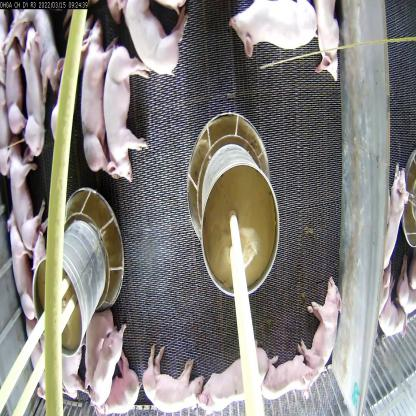Pig: (99, 41, 163, 192), (119, 0, 204, 85), (191, 338, 275, 416), (4, 138, 54, 265), (225, 0, 324, 63), (72, 22, 114, 170), (292, 271, 344, 386), (16, 24, 55, 166), (17, 1, 69, 101), (136, 344, 205, 415), (0, 205, 40, 325), (79, 307, 123, 415), (260, 345, 318, 412), (314, 0, 350, 88), (376, 261, 410, 351), (22, 322, 53, 415), (92, 356, 140, 416), (387, 157, 411, 276), (52, 340, 89, 414), (4, 41, 29, 148), (400, 257, 416, 328)
